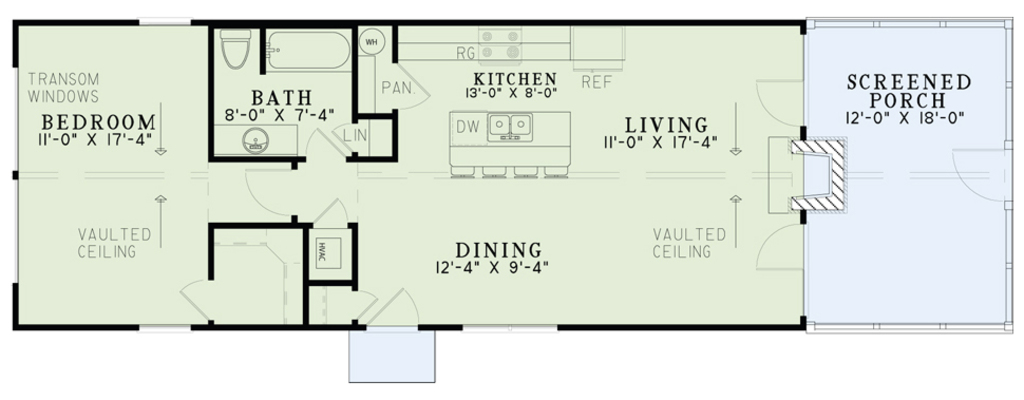door: (953, 143, 1019, 204), (756, 219, 814, 274), (366, 277, 429, 327), (757, 74, 814, 127), (239, 167, 295, 218), (390, 59, 439, 113), (179, 277, 229, 322), (296, 122, 346, 159), (345, 284, 376, 329), (308, 199, 353, 228), (331, 116, 361, 154)
kitchen_bar: (443, 107, 584, 184)
large_sink: (213, 21, 257, 74)
small_sink: (216, 122, 295, 155)
tub: (262, 30, 358, 74)
twin_sink: (485, 108, 534, 141)
window: (459, 320, 559, 334), (133, 12, 197, 32), (130, 321, 197, 332)
